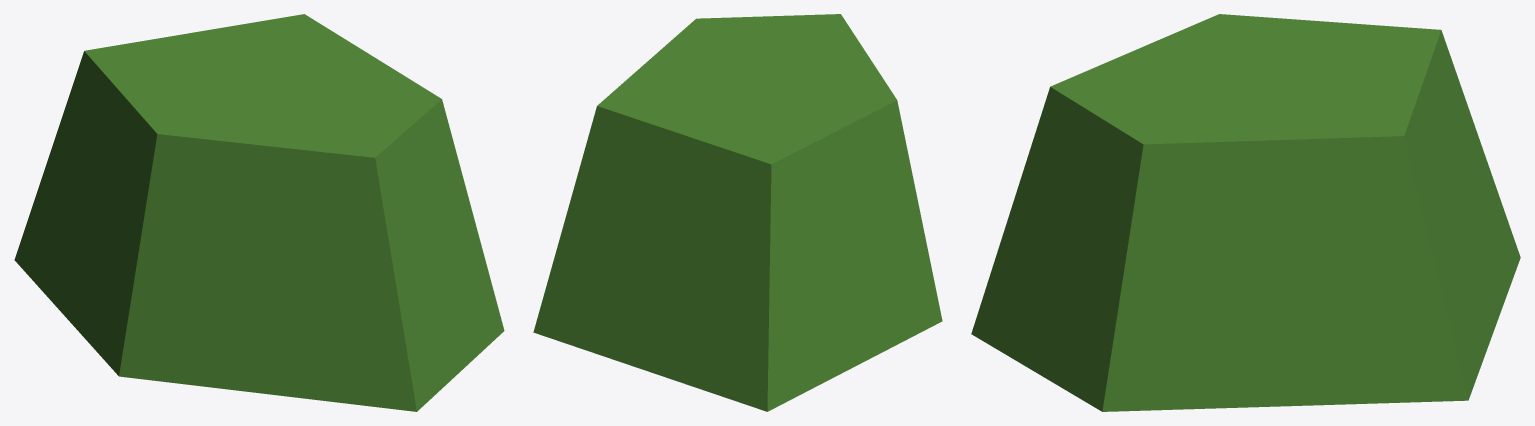
The model's file is grass_layer_crumb_spec_D.fbx.
The picture shows the model from 3 angles, left to right: view 1: azimuth 30°, elevation 25°; view 2: azimuth 150°, elevation 25°; view 3: azimuth 270°, elevation 25°; orthographic projection. The views are drawn at different scales.
Visible parts, largest first — view 1: grass_layer_crumb_spec_D; view 2: grass_layer_crumb_spec_D; view 3: grass_layer_crumb_spec_D.
Part boxes in pixels (x1,y1,x2,y2): grass_layer_crumb_spec_D: [14, 14, 504, 411]; grass_layer_crumb_spec_D: [533, 14, 942, 411]; grass_layer_crumb_spec_D: [971, 14, 1520, 411].
Size of the model in its own units: 24.61 by 15.99 by 32.52.
